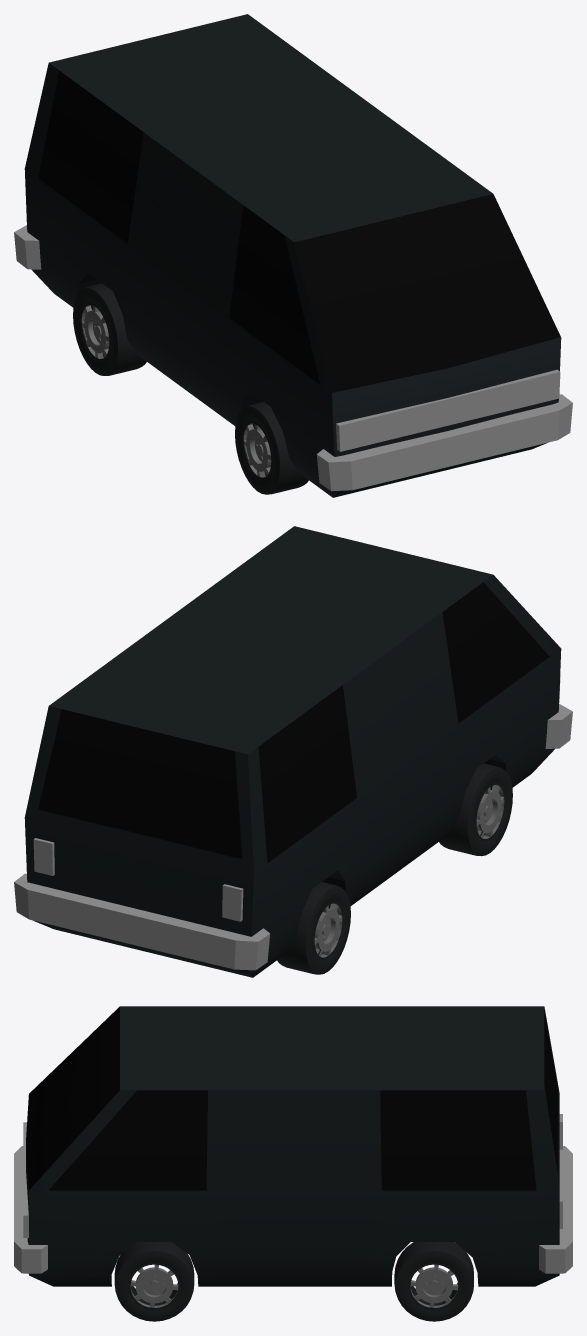
Rendered from minivan.obj.
The picture shows the model from 3 angles, top to bottom: view 1: azimuth 30°, elevation 25°; view 2: azimuth 150°, elevation 25°; view 3: azimuth 270°, elevation 25°; orthographic projection. The views are drawn at different scales.
Parts seen in each view (by area): view 1: llanta3; view 2: llanta3; view 3: llanta3.
Boxes of the visible parts, x1,y1,x2,y2 form: llanta3: (14,14,572,497); llanta3: (14,526,572,977); llanta3: (14,1006,572,1321).
Size of the model in its own units: 5.41 by 5.48 by 12.35.
Materials: 1 (1 with a texture image).
